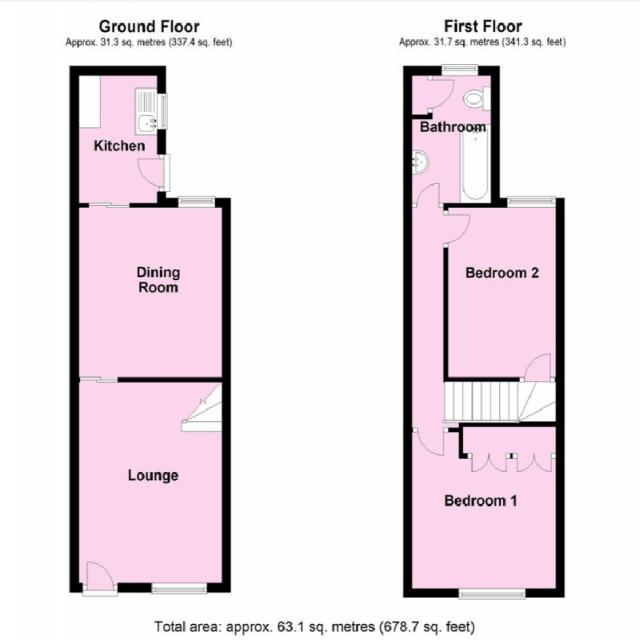DOOR: (413, 426, 449, 462), (83, 559, 118, 596), (520, 347, 555, 383), (136, 154, 170, 191), (444, 210, 475, 248), (411, 180, 444, 208)
ROOM: (402, 421, 566, 598), (443, 197, 566, 382), (155, 88, 171, 134)
SLIDING DOOR: (77, 372, 120, 386), (87, 199, 131, 211)
WINDOW: (502, 192, 558, 210), (150, 580, 209, 596), (439, 61, 481, 79), (175, 194, 217, 210)
